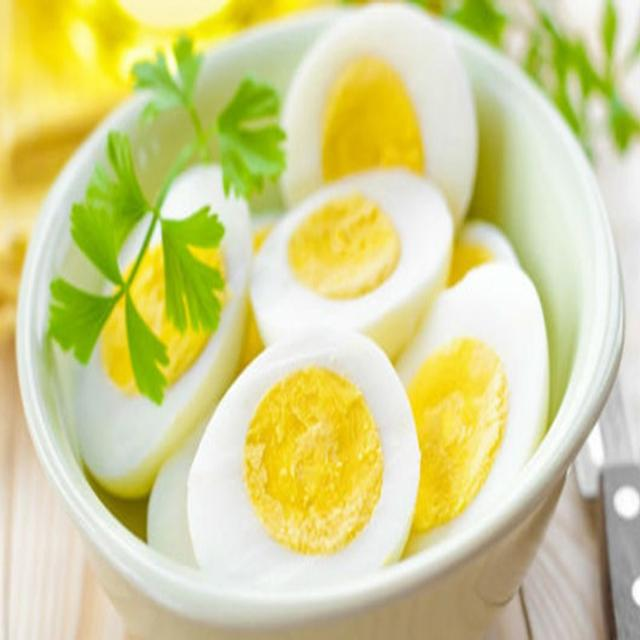rau ngo: (47, 37, 225, 403), (214, 79, 285, 199)
trung luoc: (188, 330, 420, 589), (75, 165, 254, 496), (397, 250, 548, 554), (282, 6, 477, 227), (251, 170, 452, 361)
